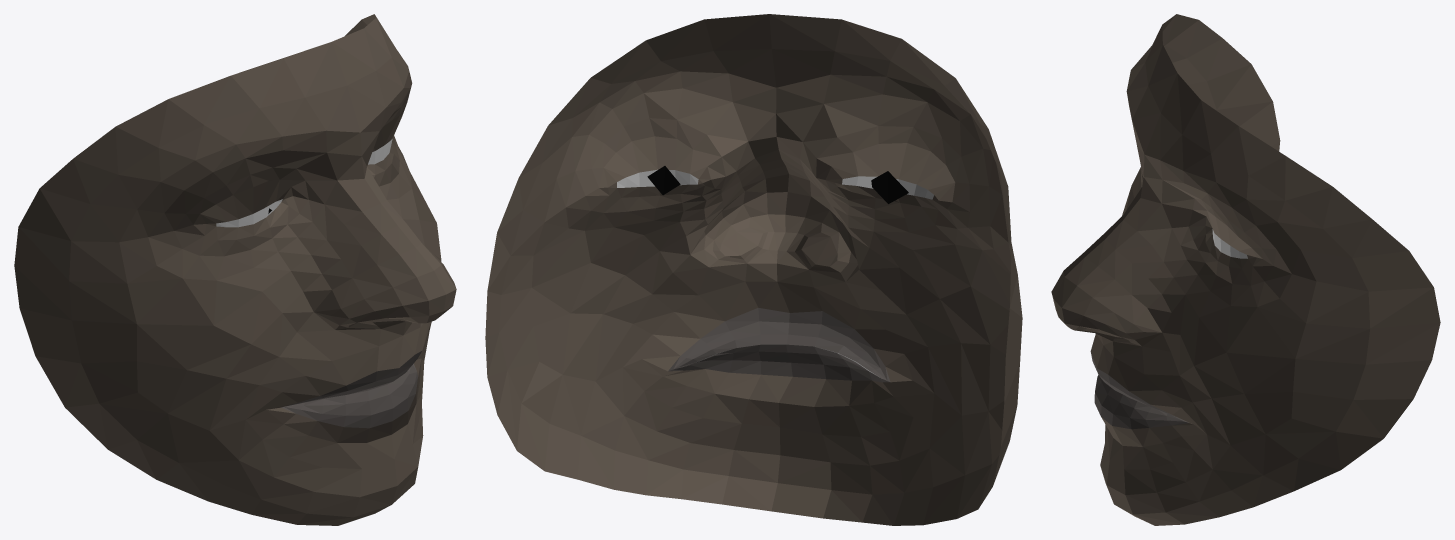
Rendered from IMG_3793.obj.
The picture shows the model from 3 angles, left to right: view 1: azimuth 30°, elevation 25°; view 2: azimuth 150°, elevation 25°; view 3: azimuth 270°, elevation 25°; orthographic projection. The views are drawn at different scales.
Visible parts, largest first — view 1: face_model_with_iris; view 2: face_model_with_iris; view 3: face_model_with_iris.
Boxes of the visible parts, x1=… form: face_model_with_iris: x1=14, y1=14, x2=456, y2=525; face_model_with_iris: x1=485, y1=14, x2=1022, y2=525; face_model_with_iris: x1=1051, y1=14, x2=1440, y2=525.
Size of the model in its own units: 0.9268 by 1 by 0.8093.
